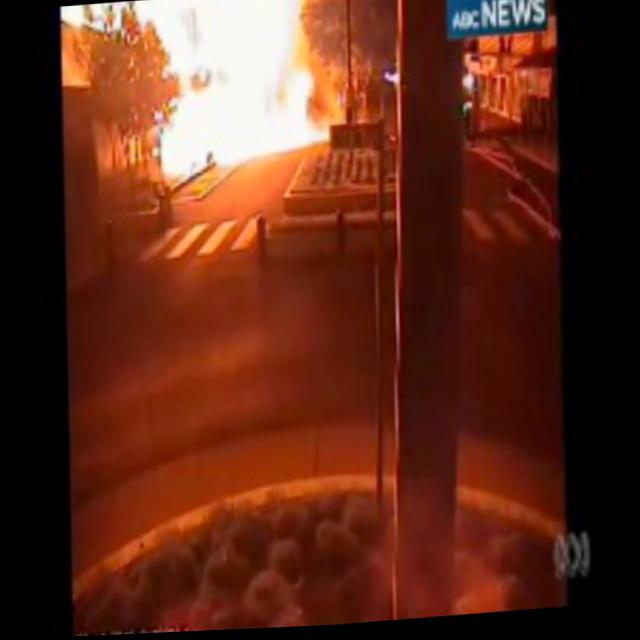fire: (155, 0, 332, 181), (54, 0, 156, 39)
